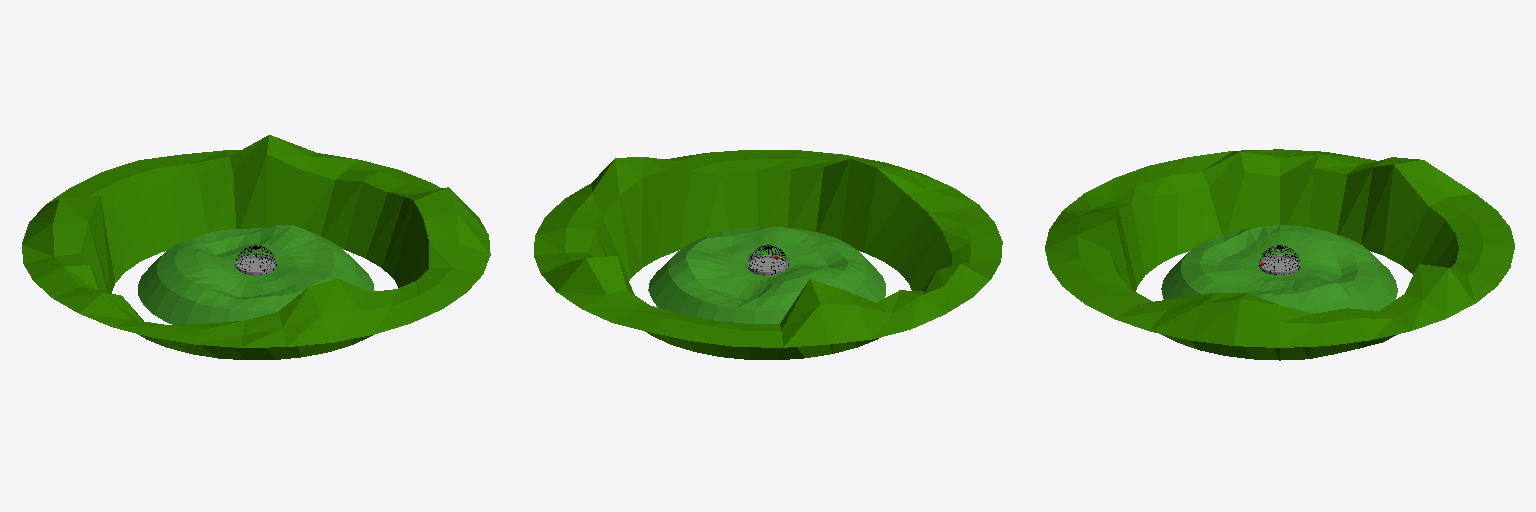
Rendered from Cage.obj.
3 renders of one model, left to right at view 1: azimuth 30°, elevation 25°; view 2: azimuth 150°, elevation 25°; view 3: azimuth 270°, elevation 25°, orthographic.
Visible parts, largest first — view 1: Object, grass, Cylinder001; view 2: Object, grass, Cylinder001; view 3: Object, grass, Cylinder001.
Boxes of the visible parts, x1,y1,x2,y2 form: Object: [22, 135, 490, 359]; grass: [138, 225, 373, 324]; Cylinder001: [236, 255, 275, 275]; Object: [534, 150, 1002, 359]; grass: [648, 226, 885, 323]; Cylinder001: [748, 255, 787, 275]; Object: [1045, 149, 1514, 360]; grass: [1161, 225, 1397, 313]; Cylinder001: [1260, 255, 1299, 274].
Bounding box in the file's own units: 1164 × 235 × 1165.